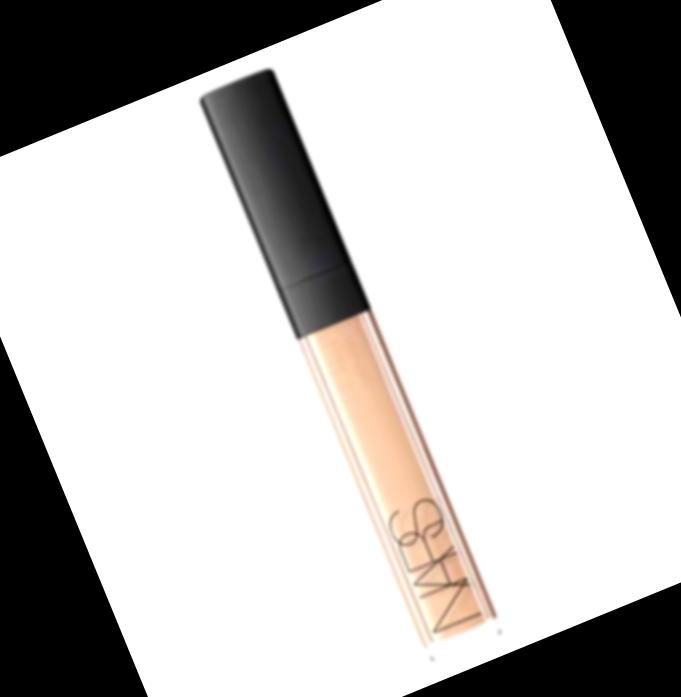cosmetic: (198, 65, 509, 667)
